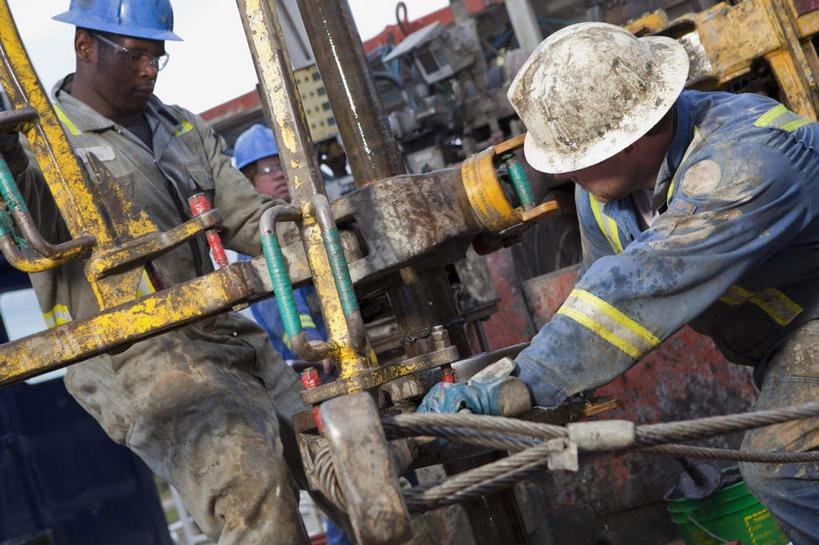helmet: (508, 23, 683, 173), (52, 1, 186, 37), (228, 124, 285, 169)
